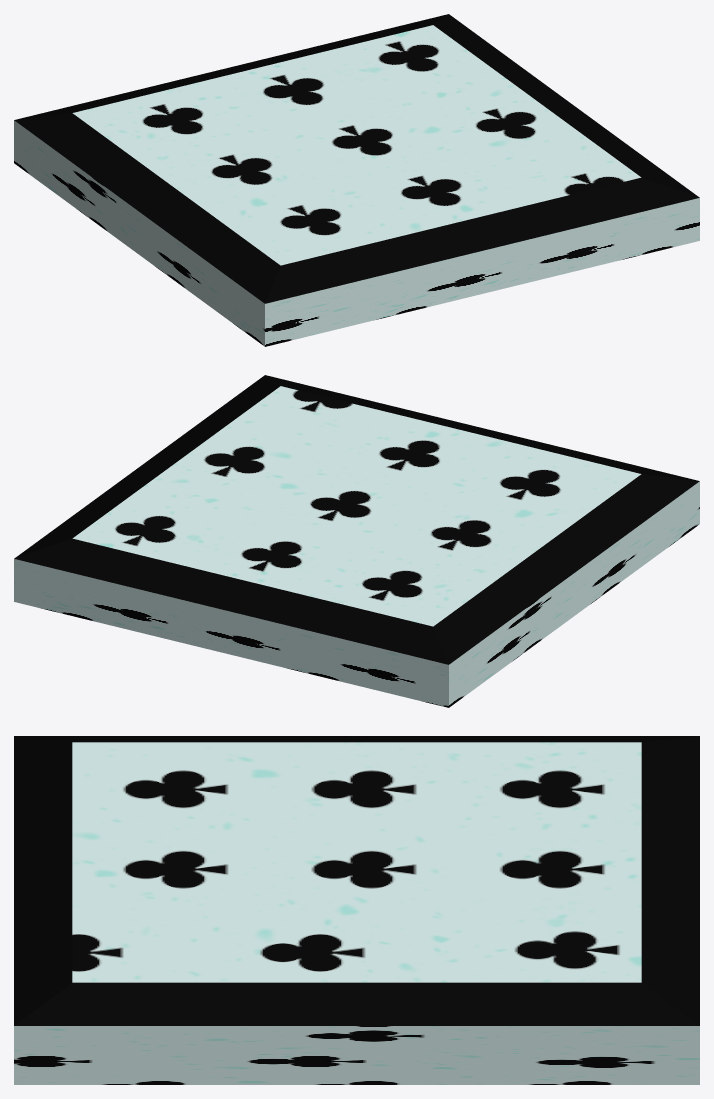
The model's file is крест куб.fbx.
The picture shows the model from 3 angles, top to bottom: view 1: azimuth 30°, elevation 25°; view 2: azimuth 150°, elevation 25°; view 3: azimuth 270°, elevation 25°; orthographic projection. The views are drawn at different scales.
Visible parts, largest first — view 1: Cube.008; view 2: Cube.008; view 3: Cube.008.
Boxes of the visible parts, x1,y1,x2,y2 form: Cube.008: [14, 14, 699, 346]; Cube.008: [14, 375, 699, 707]; Cube.008: [14, 736, 699, 1084].
Size of the model in its own units: 529 by 65.88 by 529.
